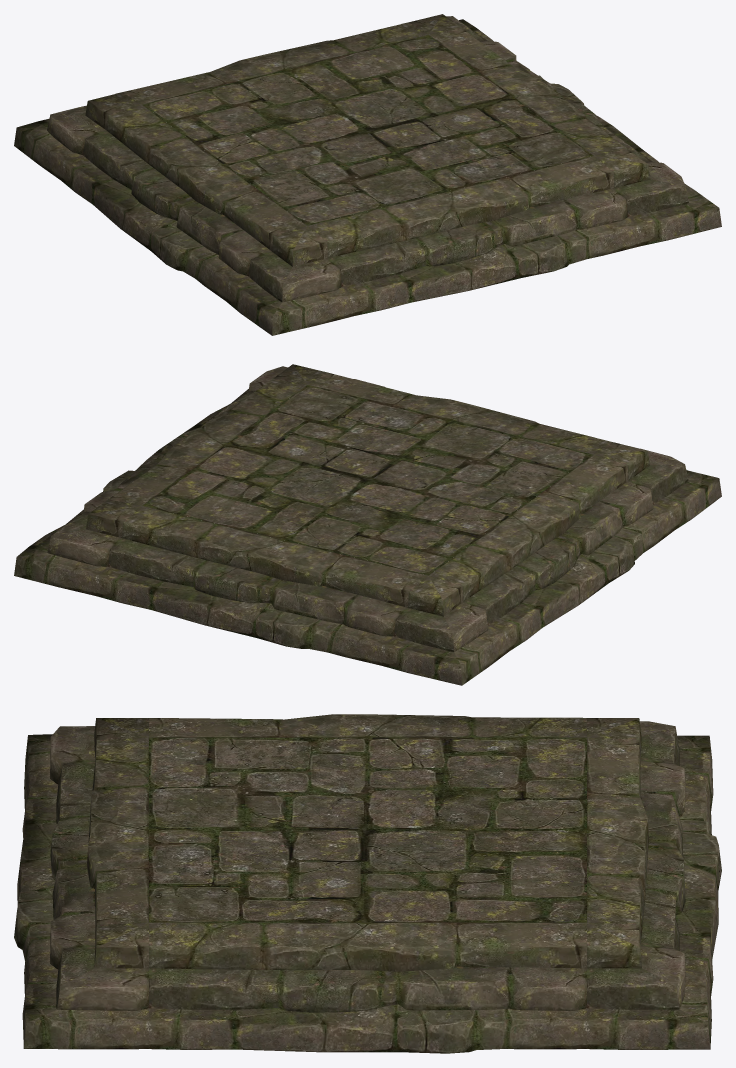
The model's file is Plaza_Square_01-transformed.glb.
3 views of the same model, one above another, from view 1: azimuth 30°, elevation 25°; view 2: azimuth 150°, elevation 25°; view 3: azimuth 270°, elevation 25° (orthographic). The views are drawn at different scales.
Visible parts, largest first — view 1: default; view 2: default; view 3: default.
Boxes of the visible parts, x1,y1,x2,y2 form: default: (14, 14, 721, 335); default: (14, 364, 721, 685); default: (14, 714, 721, 1053).
Size of the model in its own units: 9.7 by 1.12 by 9.7.
Materials: 2 (2 with a texture image).
